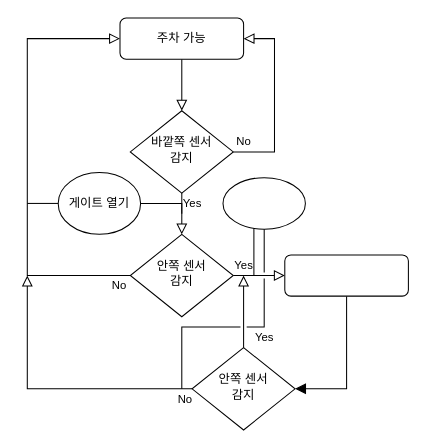
Some shapes in this 426 by 448 pixel diagram are drawn without their labels. The shapes that lost their labels are listed below. From the top down, each one's centre as x and y in pixels, then its label:
At pixel 263 203: "게이트 닫기".
At pixel 346 275: "주차 불가능".
